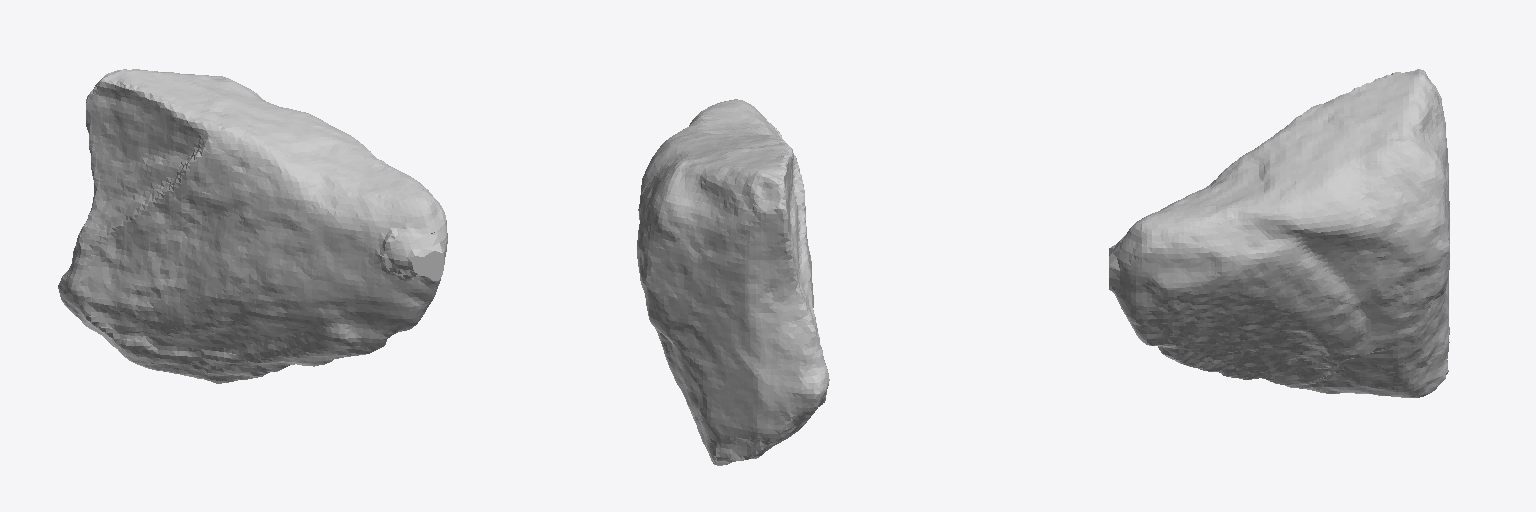
3 renders of one model, left to right at view 1: azimuth 30°, elevation 25°; view 2: azimuth 150°, elevation 25°; view 3: azimuth 270°, elevation 25°, orthographic.
Parts seen in each view (by area): view 1: SP1_az; view 2: SP1_az; view 3: SP1_az.
Part boxes in pixels (left/top/right/bottom): SP1_az: left=58, top=69, right=447, bottom=383; SP1_az: left=637, top=99, right=829, bottom=465; SP1_az: left=1109, top=69, right=1449, bottom=397.
Bounding box in the file's own units: 67.01 × 76.79 × 79.02.